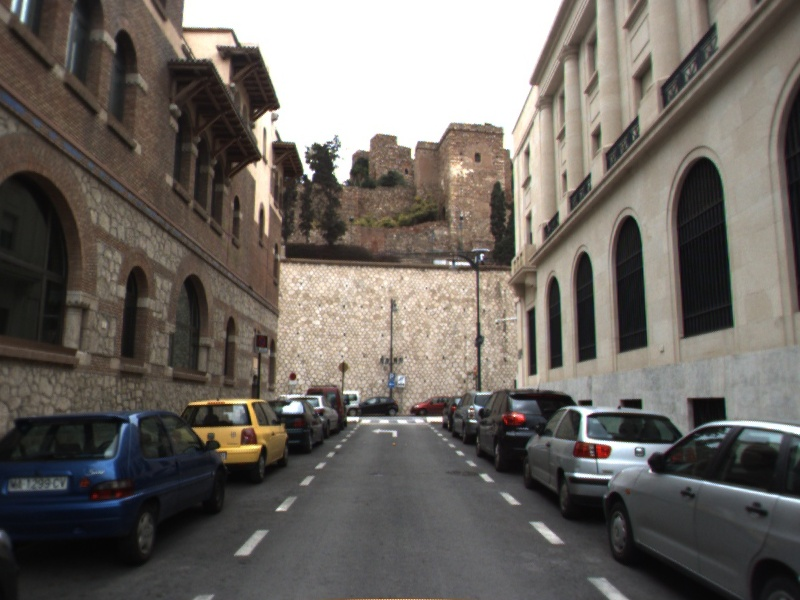LEFT: (370, 426, 399, 439)
